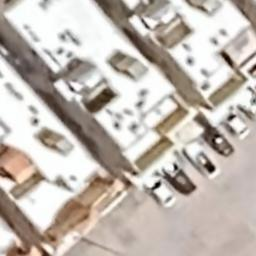pickup: (162, 160, 196, 198)
sedan: (185, 140, 220, 180), (146, 174, 178, 209), (205, 127, 234, 160), (222, 112, 252, 140)
